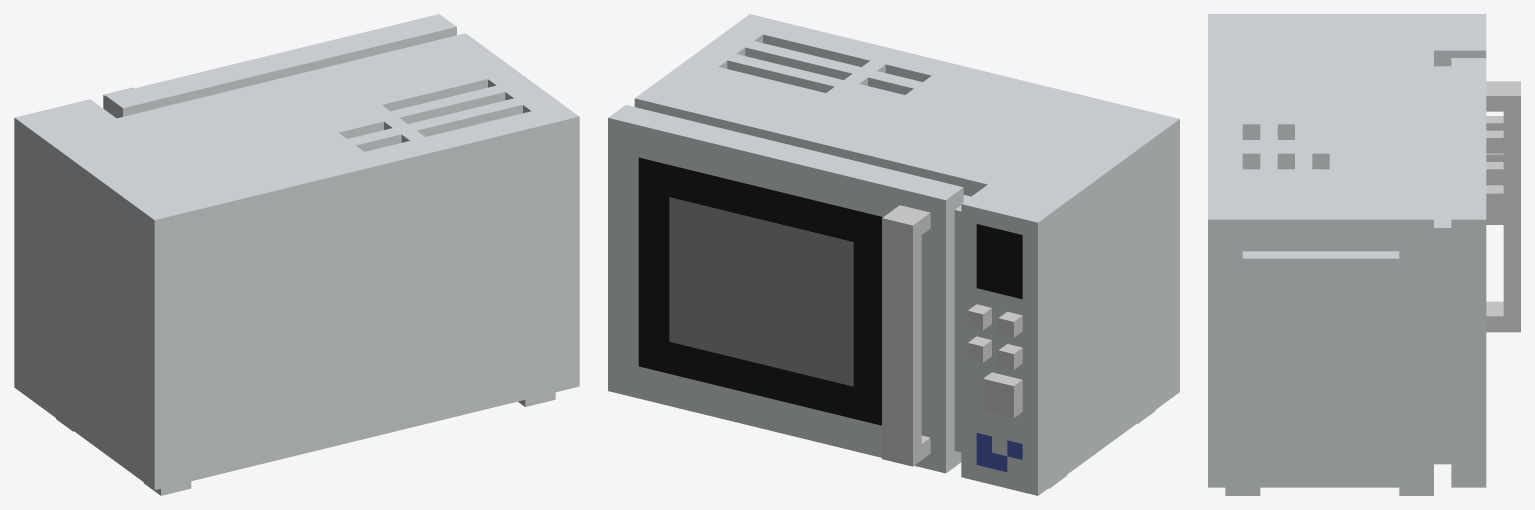
File: microwave.dae
The picture shows the model from 3 angles, left to right: view 1: azimuth 30°, elevation 25°; view 2: azimuth 150°, elevation 25°; view 3: azimuth 270°, elevation 25°; orthographic projection. The views are drawn at different scales.
Parts seen in each view (by area): view 1: Untitled; view 2: Untitled; view 3: Untitled.
Boxes of the visible parts, box(x1,y1,x2,y2) form: Untitled: box(14, 14, 579, 495); Untitled: box(608, 14, 1179, 495); Untitled: box(1208, 14, 1520, 495).
Size of the model in its own units: 0.87 by 0.54 by 0.54.
1 material, 1 textured.
